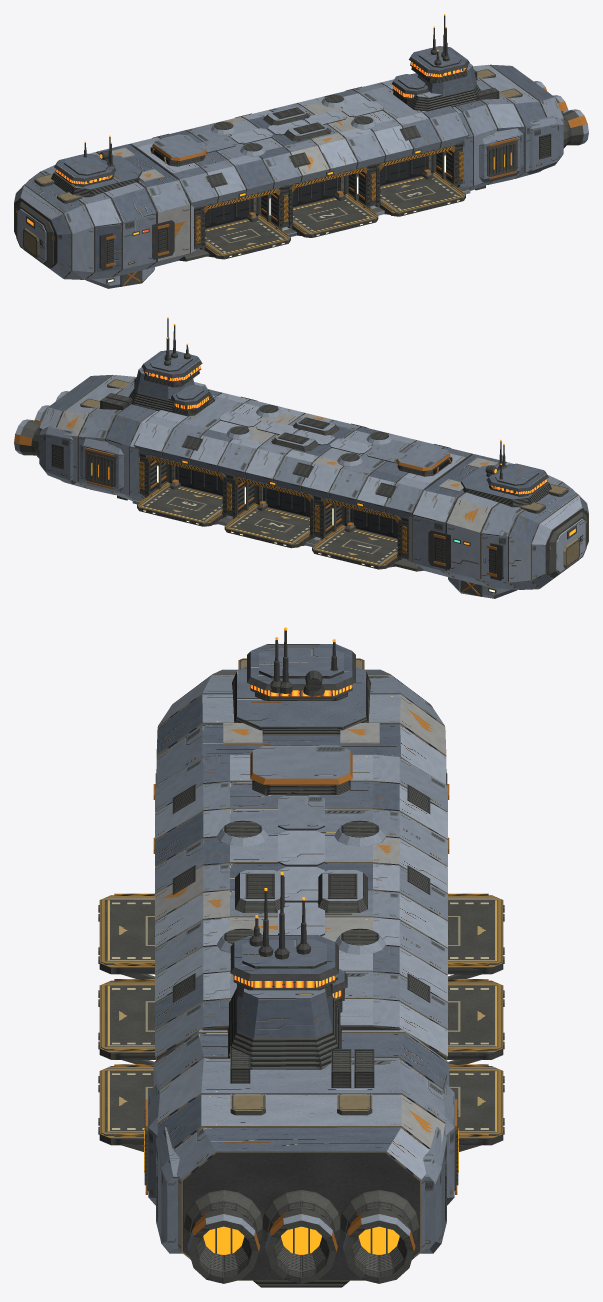
The model's file is skidbladnir.glb.
3 views of the same model, one above another, from view 1: azimuth 30°, elevation 25°; view 2: azimuth 150°, elevation 25°; view 3: azimuth 270°, elevation 25° (orthographic). The views are drawn at different scales.
Visible parts, largest first — view 1: hull_plating, bay_port_3_plating, bay_port_1_plating, bay_port_2_plating, generator_port_plating, engine_port_plating; view 2: hull_plating, bay_starboard_3_plating, bay_starboard_1_plating, bay_starboard_2_plating, generator_starboard_plating, engine_starboard_plating; view 3: hull_plating, engine_centre_plating, engine_port_plating, engine_starboard_plating, bay_port_1_plating, bay_starboard_1_plating, bay_port_2_plating, bay_starboard_2_plating, bay_port_3_plating, bay_starboard_3_plating, generator_port_plating, generator_starboard_plating.
Part boxes in pixels (<box>): hull_plating: <box>14,14,563,288</box>; bay_port_3_plating: <box>375,145,465,216</box>; bay_port_1_plating: <box>199,188,290,259</box>; bay_port_2_plating: <box>287,166,378,237</box>; generator_port_plating: <box>479,128,523,183</box>; engine_port_plating: <box>562,109,588,148</box>; hull_plating: <box>39,317,588,598</box>; bay_starboard_3_plating: <box>137,455,227,526</box>; bay_starboard_1_plating: <box>312,498,402,569</box>; bay_starboard_2_plating: <box>224,477,315,548</box>; generator_starboard_plating: <box>79,438,123,493</box>; engine_starboard_plating: <box>14,419,40,458</box>; hull_plating: <box>153,627,449,1287</box>; engine_centre_plating: <box>262,1190,340,1283</box>; engine_port_plating: <box>183,1190,262,1283</box>; engine_starboard_plating: <box>340,1190,419,1283</box>; bay_port_1_plating: <box>98,837,155,978</box>; bay_starboard_1_plating: <box>447,837,504,978</box>; bay_port_2_plating: <box>98,922,156,1064</box>; bay_starboard_2_plating: <box>446,922,504,1064</box>; bay_port_3_plating: <box>98,1008,154,1151</box>; bay_starboard_3_plating: <box>448,1008,504,1151</box>; generator_port_plating: <box>144,1084,159,1205</box>; generator_starboard_plating: <box>443,1084,458,1205</box>.
Size of the model in its own units: 2.21 by 0.7179 by 0.7355.
Materials: 1 (1 with a texture image).
